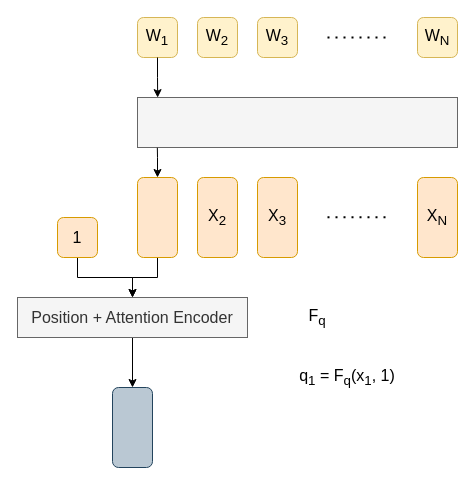
The diagram is 475 pixels wide and 485 high, and some of its shapes have lost their labels. The box of each missing label's shape, as (x1, y1, x2, y2) in pixels:
q 1: (112, 386, 152, 468)
Token Encoder: (136, 96, 458, 148)
X 1: (136, 176, 178, 258)
